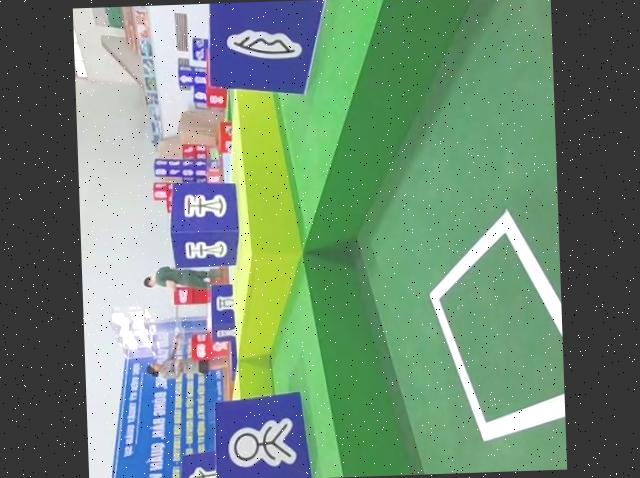R2 Real Blue: (209, 0, 334, 97), (212, 394, 316, 478), (171, 180, 244, 267), (175, 451, 238, 478), (211, 281, 238, 339)
